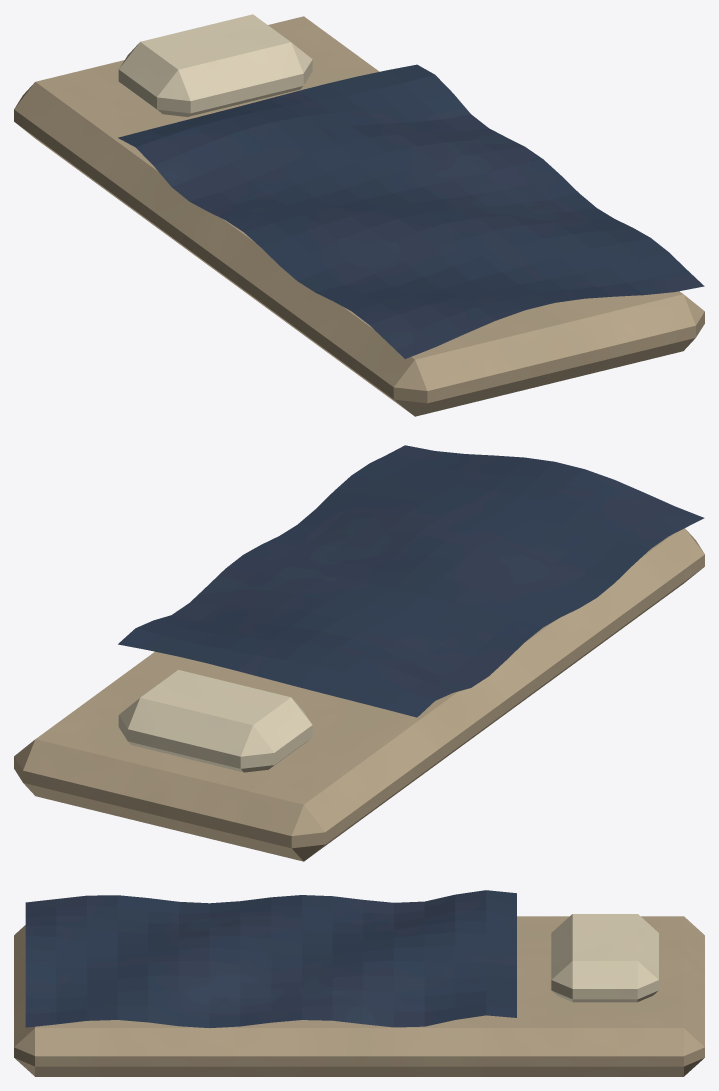
The model's file is PR_Futon.glb.
3 views of the same model, one above another, from view 1: azimuth 30°, elevation 25°; view 2: azimuth 150°, elevation 25°; view 3: azimuth 270°, elevation 25° (orthographic). The views are drawn at different scales.
Parts seen in each view (by area): view 1: PR_Futon; view 2: PR_Futon; view 3: PR_Futon.
Boxes of the visible parts, x1,y1,x2,y2 form: PR_Futon: (14,14,704,416); PR_Futon: (14,445,704,861); PR_Futon: (14,890,704,1076).
Size of the model in its own units: 0.8 by 0.24 by 1.8.
3 materials, 3 textured.
